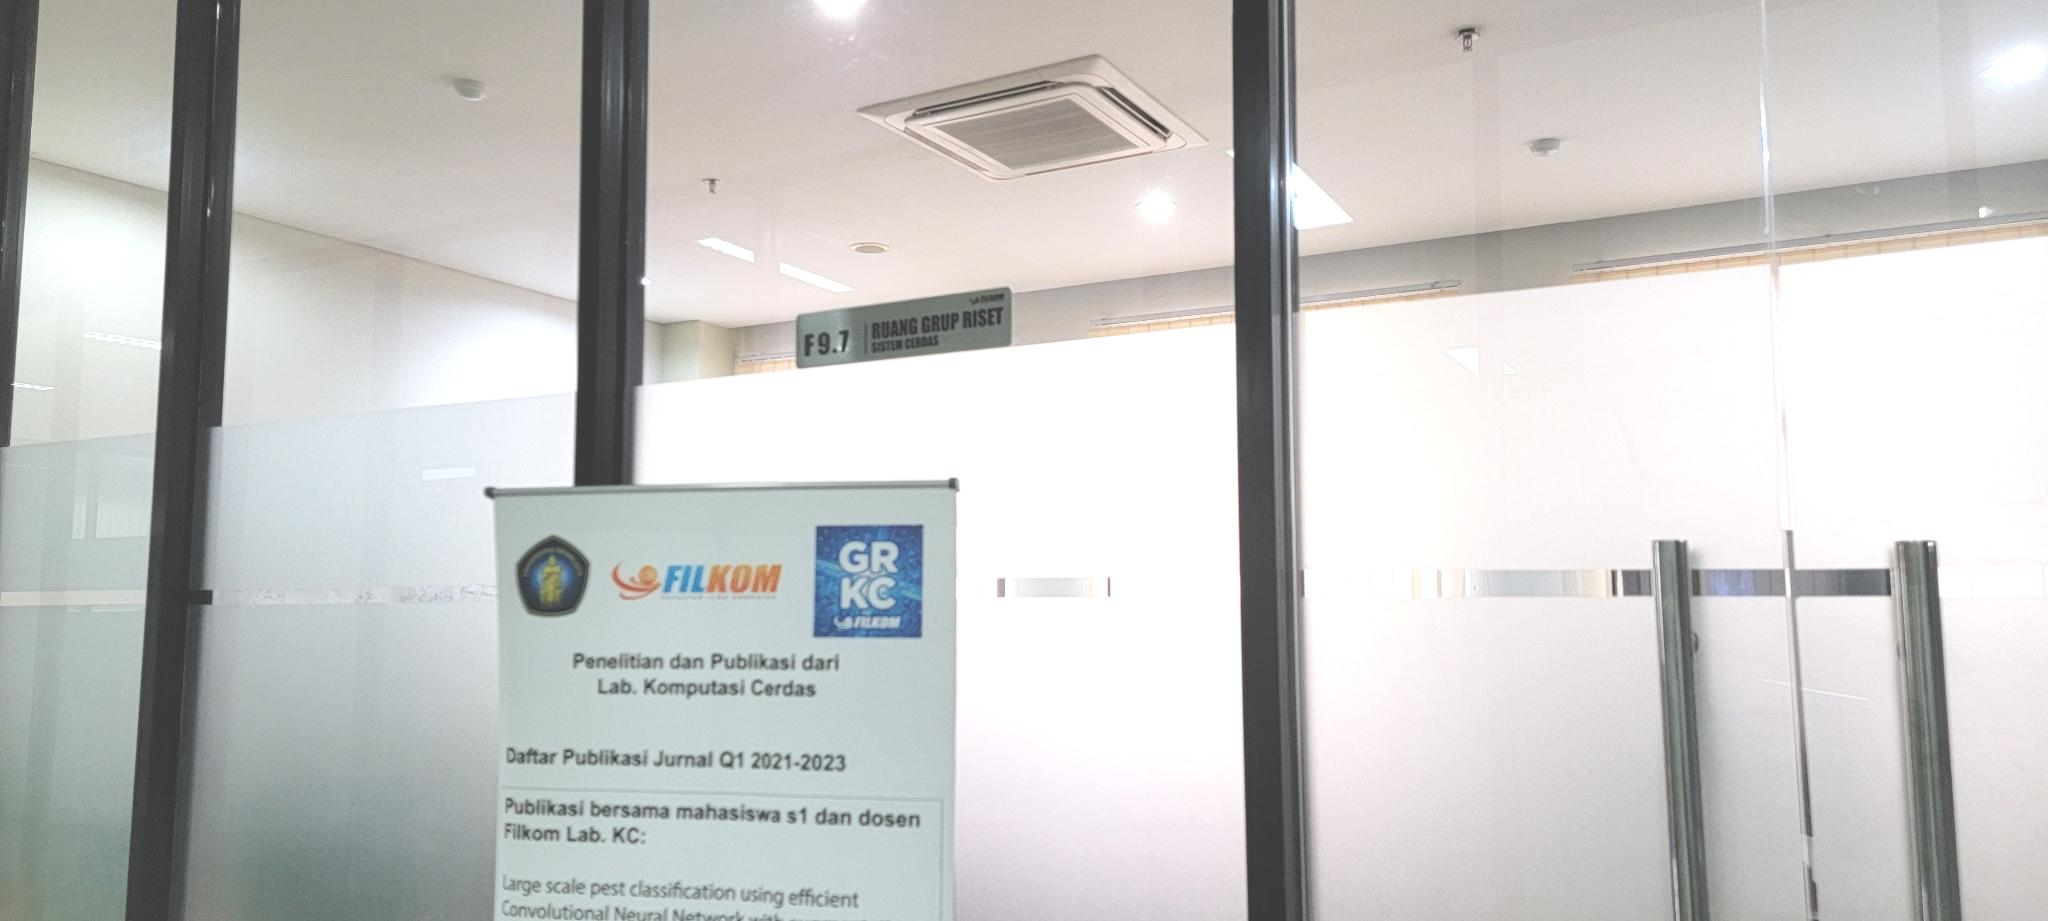plate: (795, 286, 1012, 371)
